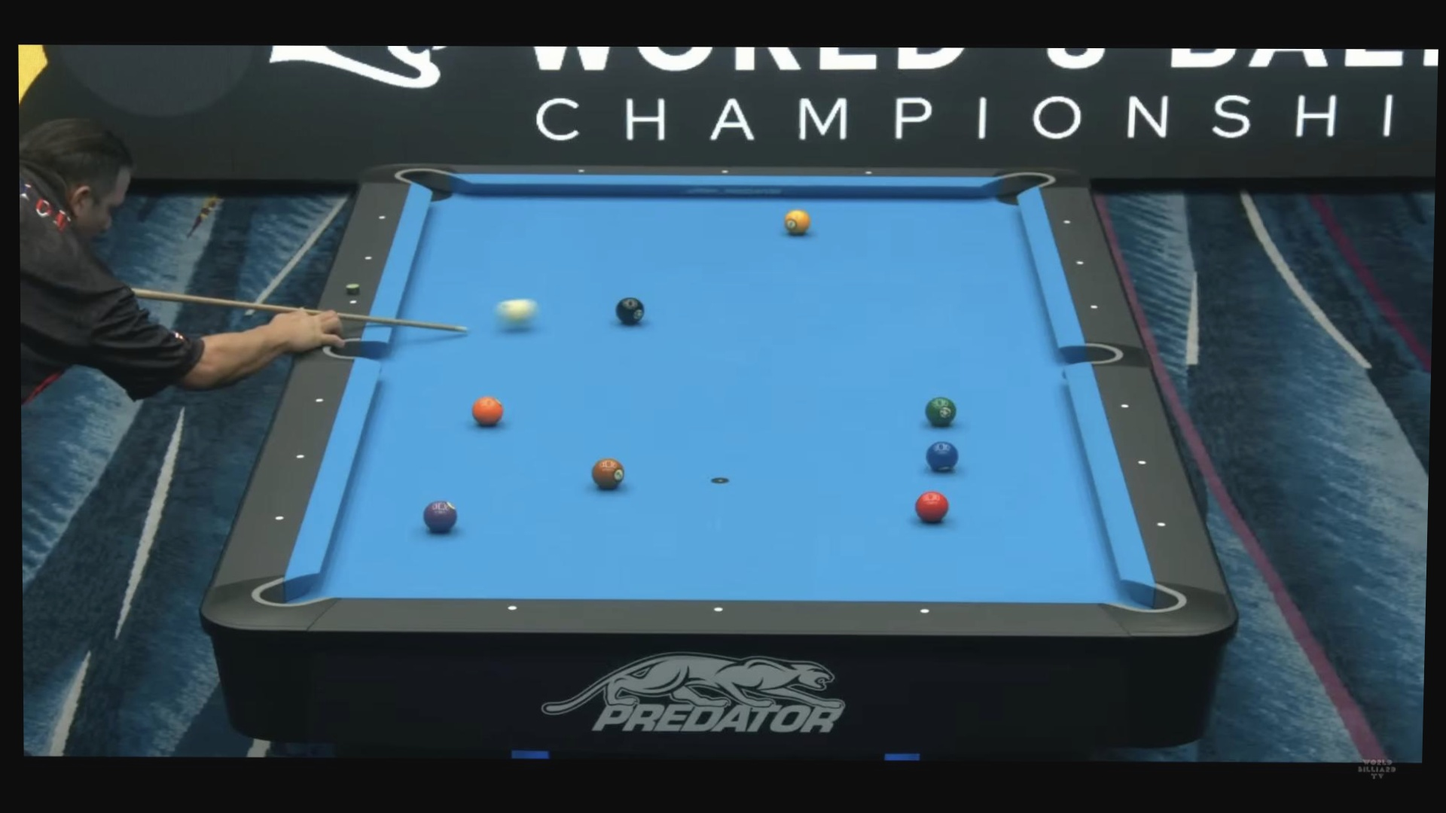Black: (504, 601, 518, 613), (713, 604, 727, 616), (918, 605, 932, 617), (1119, 400, 1132, 412), (1155, 520, 1168, 531), (1137, 457, 1149, 468), (296, 452, 305, 461), (1075, 259, 1084, 267), (275, 514, 284, 522), (315, 396, 324, 404), (378, 214, 387, 222), (1063, 218, 1071, 226), (364, 255, 372, 263), (1090, 303, 1098, 310), (349, 299, 357, 306), (578, 167, 585, 174), (722, 168, 729, 174), (865, 170, 872, 176)
Cue: (423, 500, 458, 532), (925, 441, 959, 472), (591, 458, 625, 489), (915, 491, 949, 521), (471, 396, 503, 426), (925, 397, 957, 426), (784, 209, 811, 235)
Solid: (615, 297, 645, 323)
Stripe: (498, 298, 536, 328)
